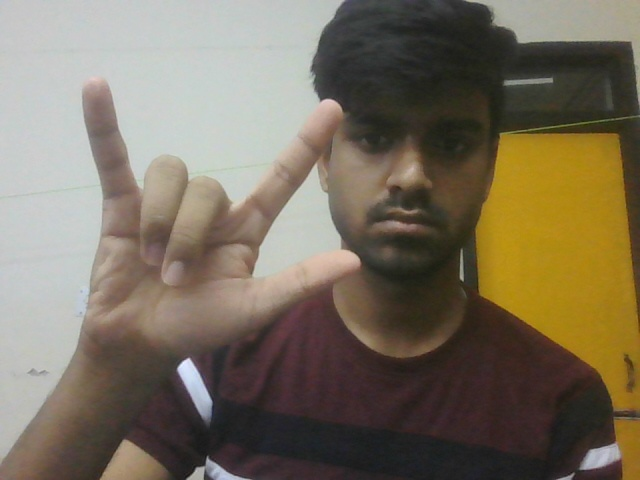iloveyou: (58, 69, 382, 403)
